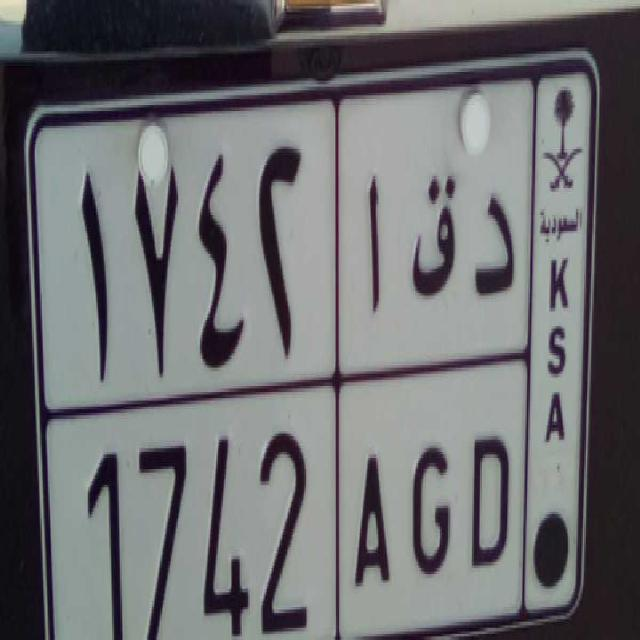license_plate: (49, 376, 522, 640)
